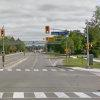Crosswalk: (0, 85, 100, 100)
